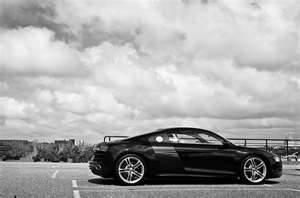car: (91, 127, 284, 186)
